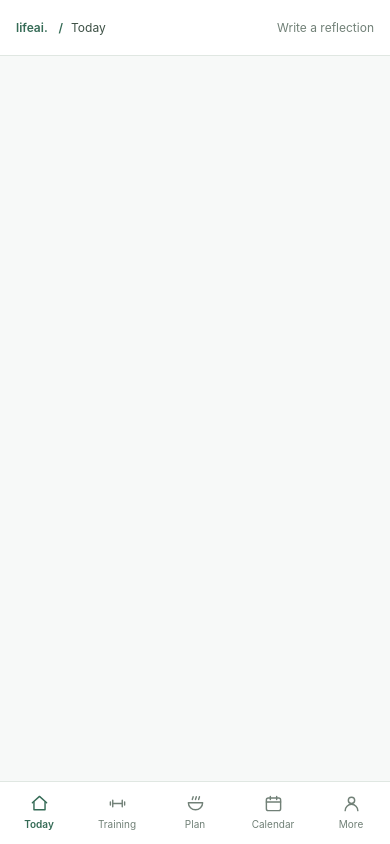
it: the mobile More menu makes every secondary page accessible
Click the button with aria-label "More navigation": [351, 813] box [312,782,389,843]
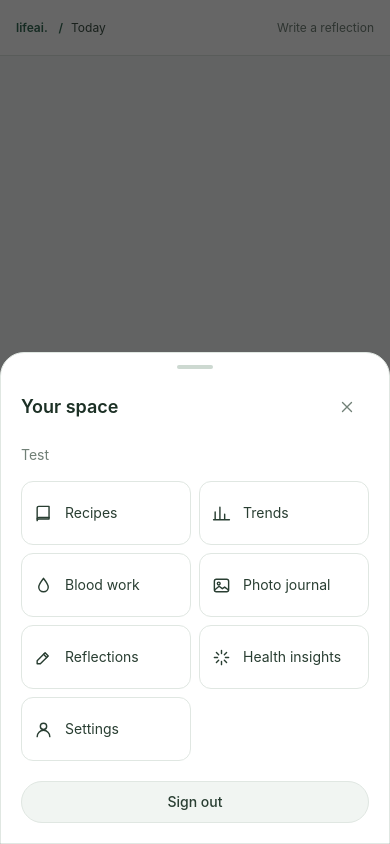
Result: the link "Recipes" is shown at [21,481,191,545]
Result: the link "Trends" is shown at [199,481,369,545]
Result: the link "Blood work" is shown at [21,553,191,617]
